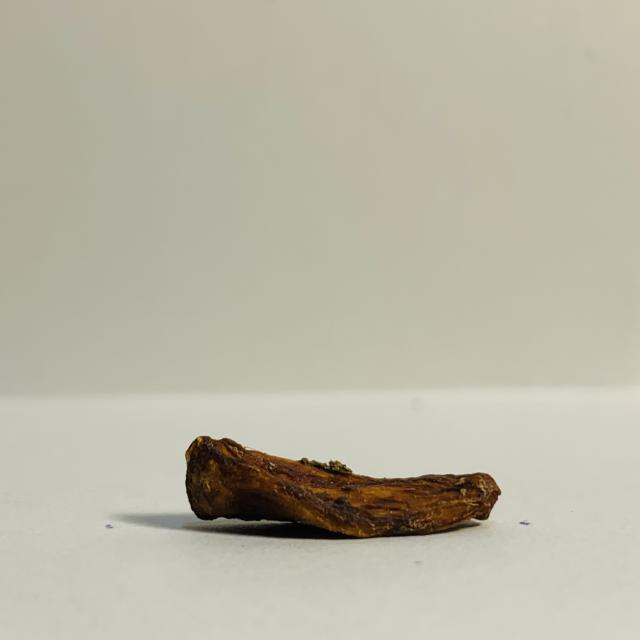Flat_cocoabeans: (122, 396, 535, 567)
